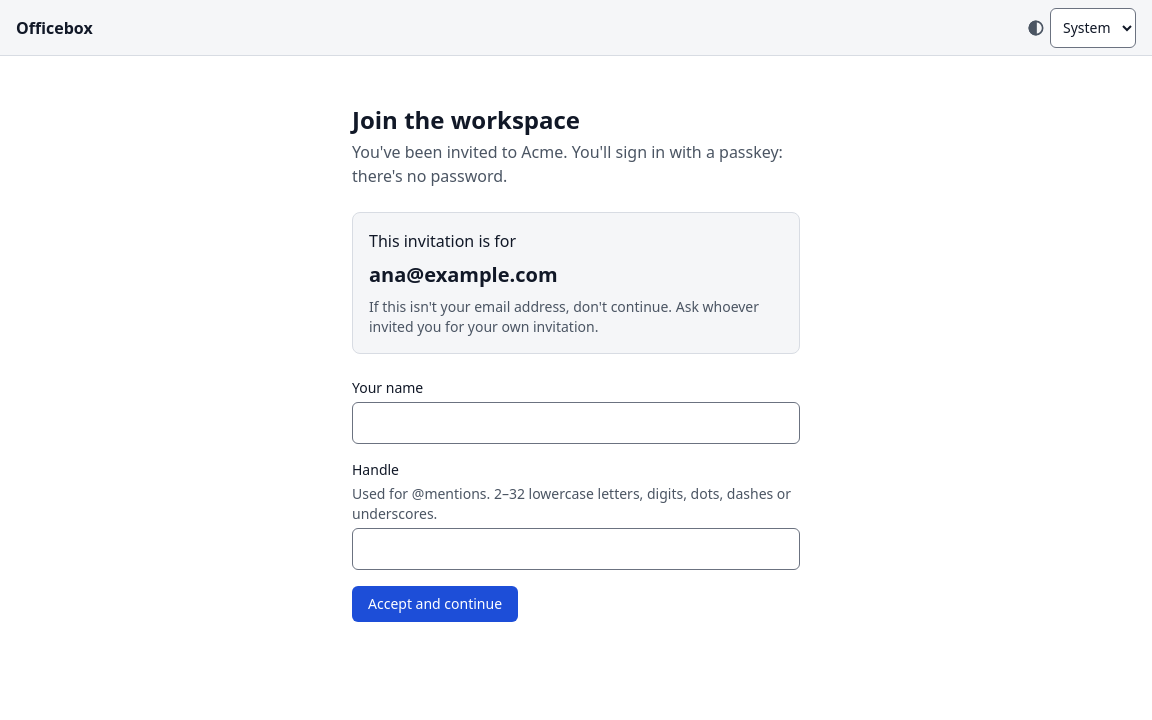
Test: accepting an invitation (Identity §4.3) › a taken handle is flagged on the field
Type "Sam" into the field labelled "Your name" at (576, 423), box left=352, top=402, right=800, bottom=444
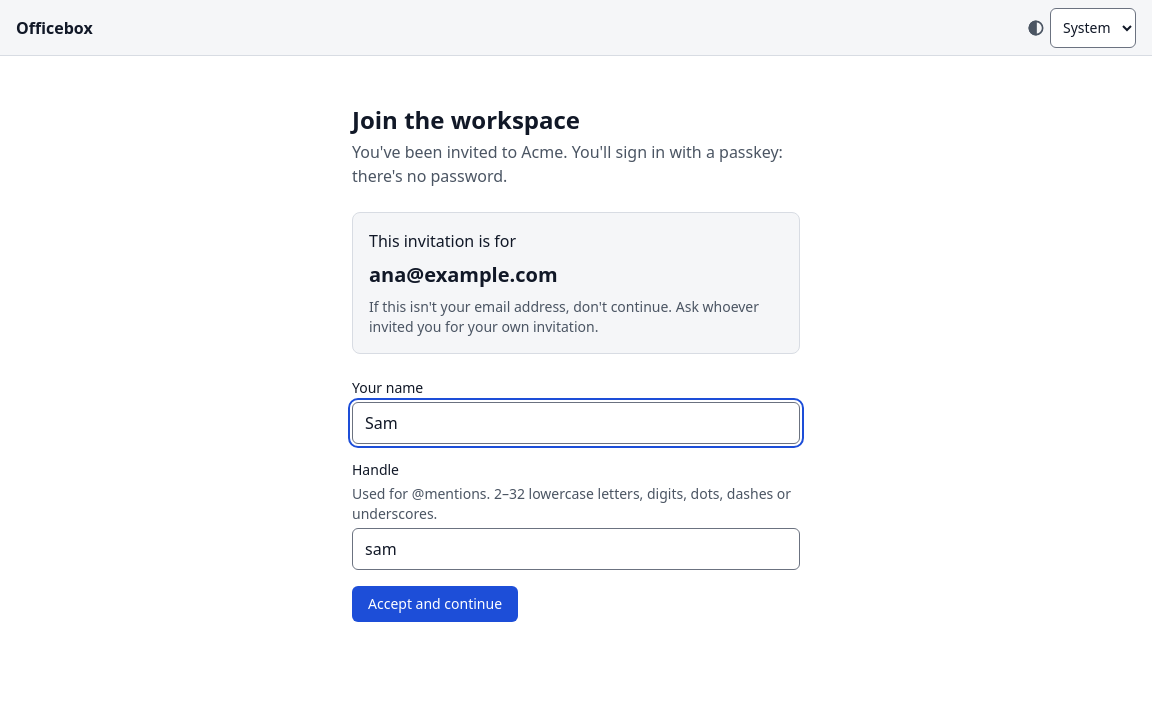
Click the button "Accept and continue" at (435, 604), box left=352, top=586, right=518, bottom=622
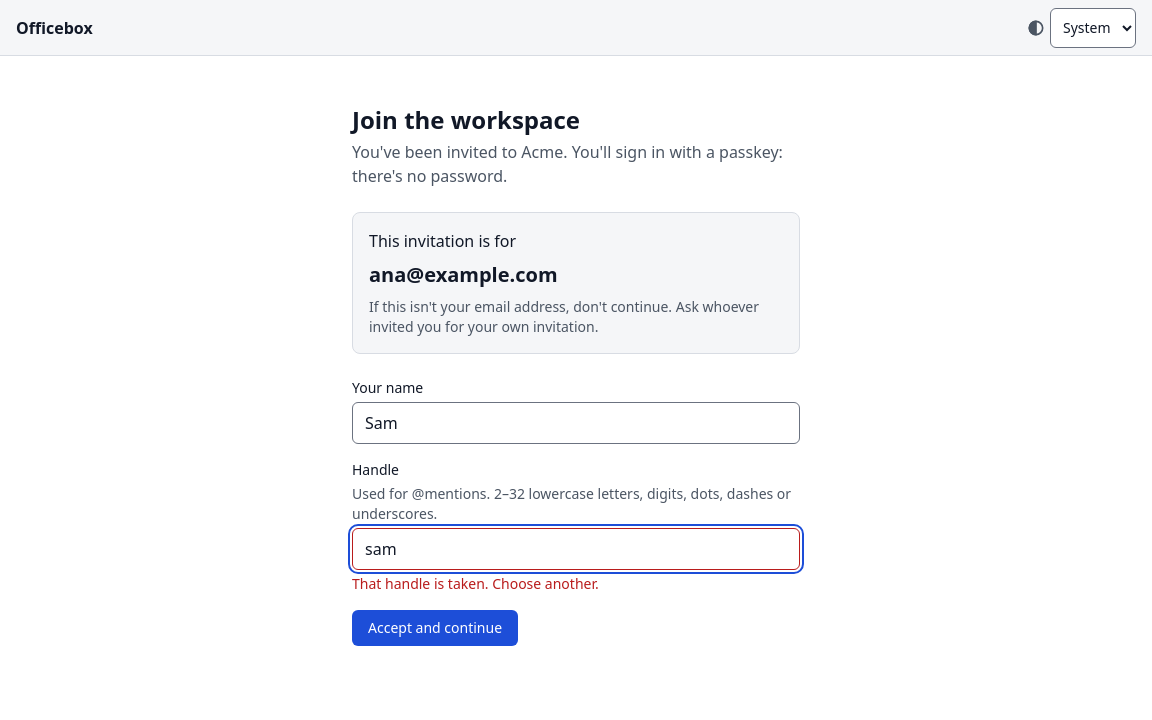
Check: the text "That handle is taken. Choose another." is shown, box left=352, top=574, right=599, bottom=593
